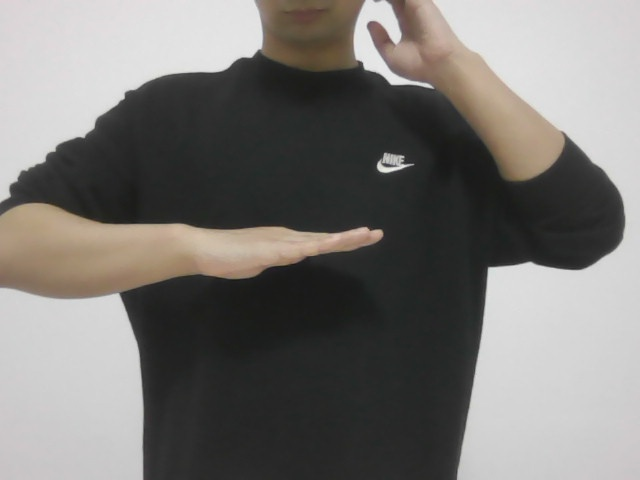safe: (170, 208, 394, 291)
